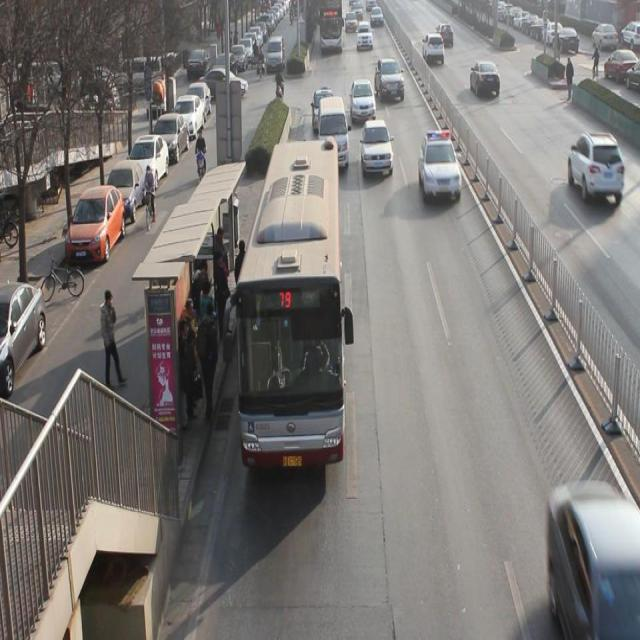car: (551, 490, 640, 630), (569, 132, 627, 209), (422, 132, 461, 205), (362, 121, 393, 173), (376, 59, 407, 106), (470, 59, 501, 100), (312, 88, 334, 134), (351, 82, 375, 118), (422, 33, 445, 68), (437, 21, 458, 49), (357, 20, 373, 52)
truck: (321, 96, 348, 166)
van: (232, 139, 344, 465), (320, 1, 344, 55)
